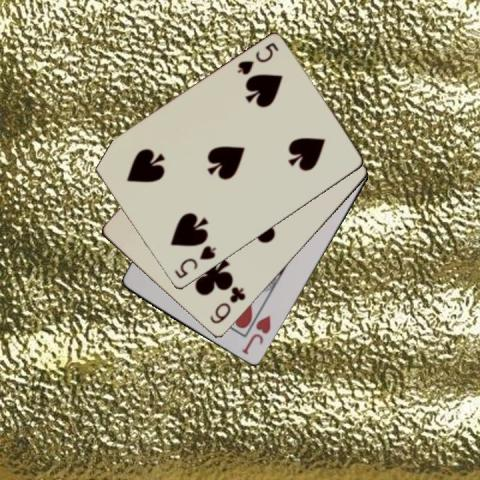5s: (171, 243, 218, 280), (234, 40, 280, 77)
6c: (207, 284, 247, 326)
Jh: (239, 313, 272, 356)
